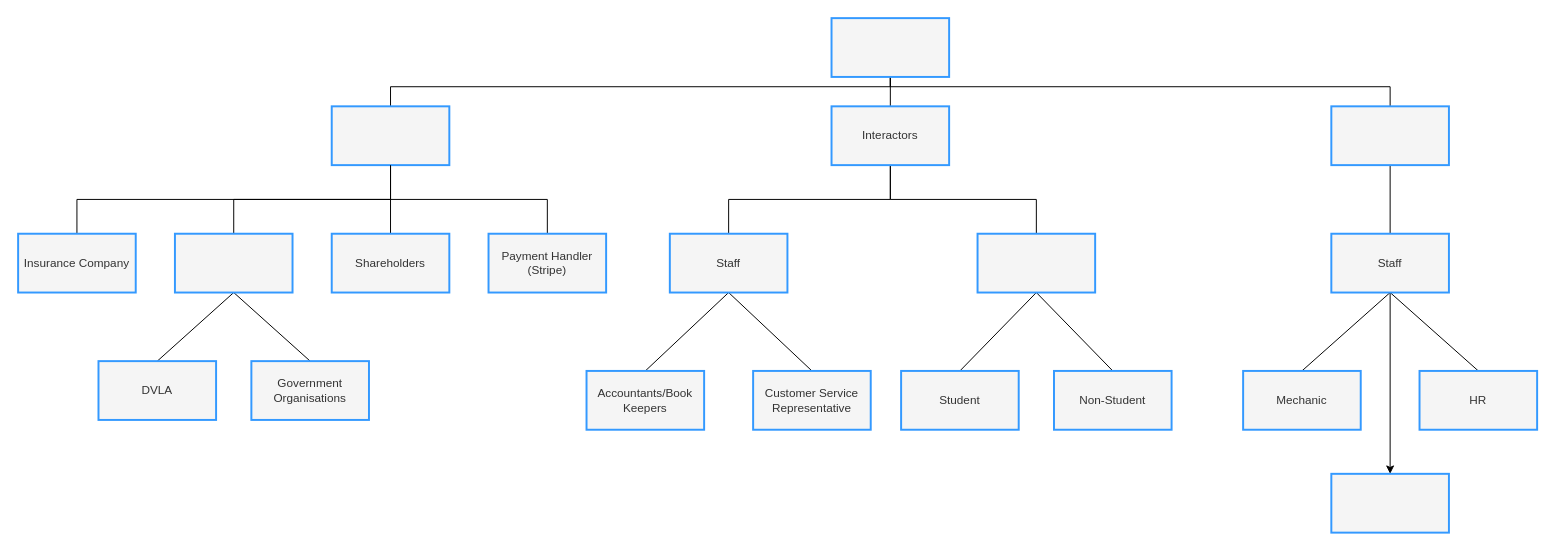
Image size: 1554x550. Some labels were removed from this diagram. The shapes that lost their labels are listed below. From the top down, each one's centre as x and y in pixels, then its label:
At point (890, 47): "ViewPoints".
At point (390, 135): "External".
At point (1389, 135): "Indirect".
At point (233, 262): "Authorities".
At point (1036, 262): "Customer".
At point (1389, 502): "Legal".
